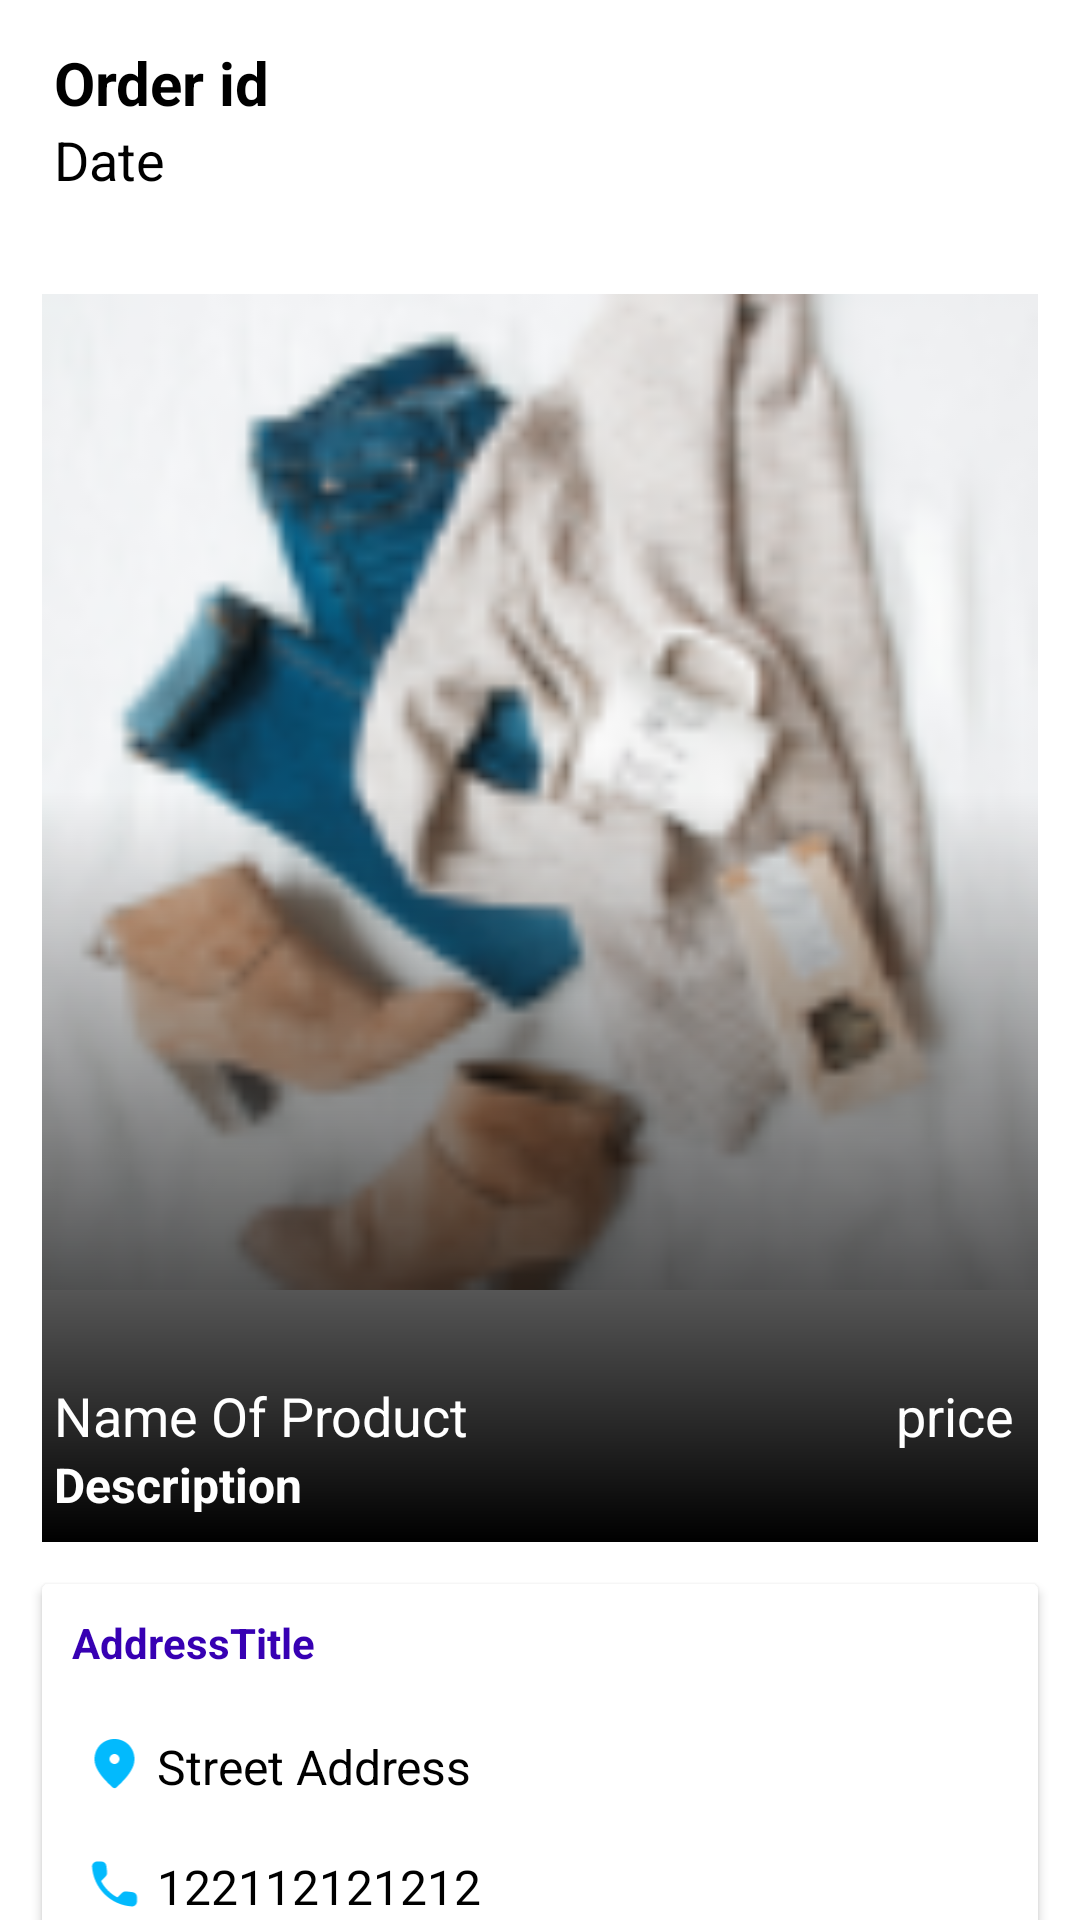

Locate icon controls on the screen. Image size 1080×1920, boxes as BBox(x1, y1, x2, y2).
phone: BBox(91, 1861, 138, 1907)
